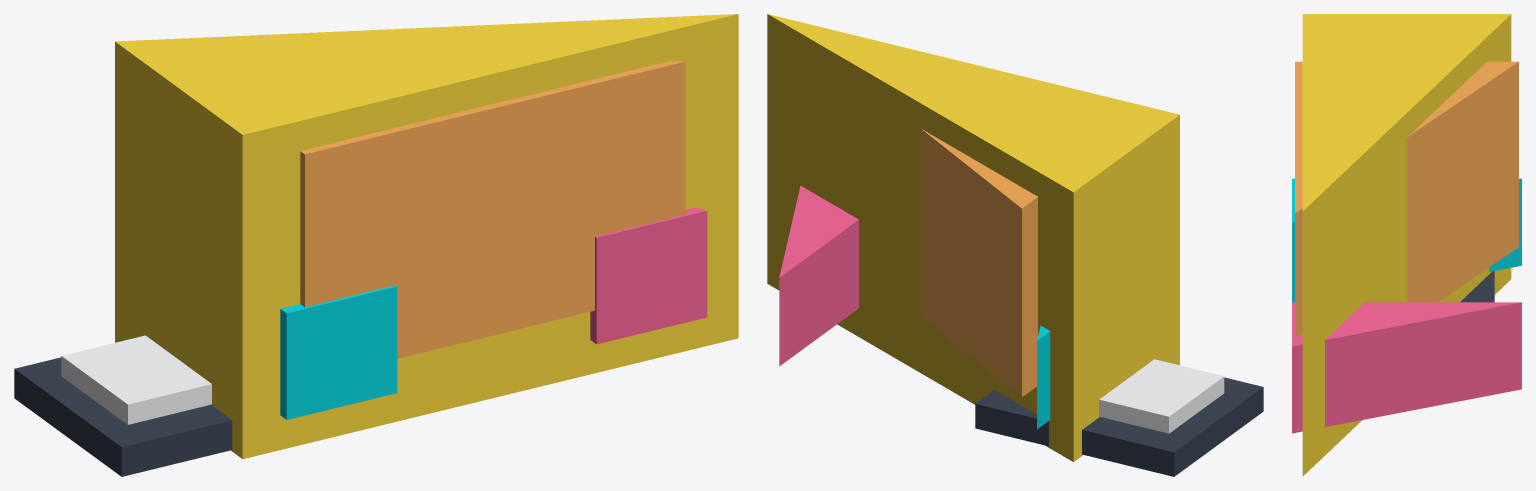
File: Direction_Triangle.fbx
3 views of the same model, side by side, from view 1: azimuth 30°, elevation 25°; view 2: azimuth 150°, elevation 25°; view 3: azimuth 270°, elevation 25° (orthographic). The views are drawn at different scales.
Visible parts, largest first — view 1: Direction_Triangle; view 2: Direction_Triangle; view 3: Direction_Triangle.
Part boxes in pixels (x1,y1,x2,y2): Direction_Triangle: [14, 14, 738, 476]; Direction_Triangle: [767, 14, 1263, 476]; Direction_Triangle: [1292, 14, 1521, 476].
Size of the model in its own units: 685 by 350 by 275.
